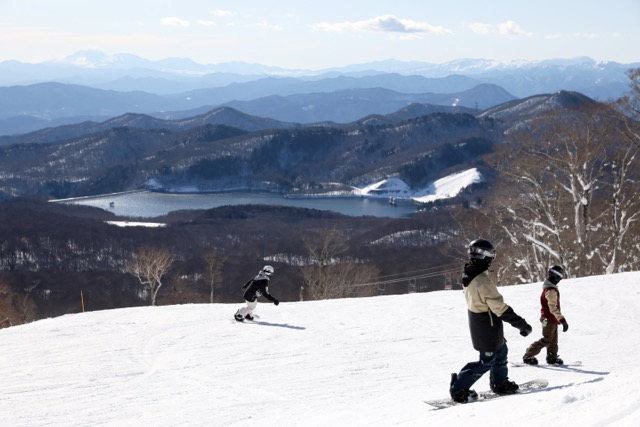snowboarder: (421, 240, 549, 412), (521, 261, 584, 372), (228, 265, 283, 326)
